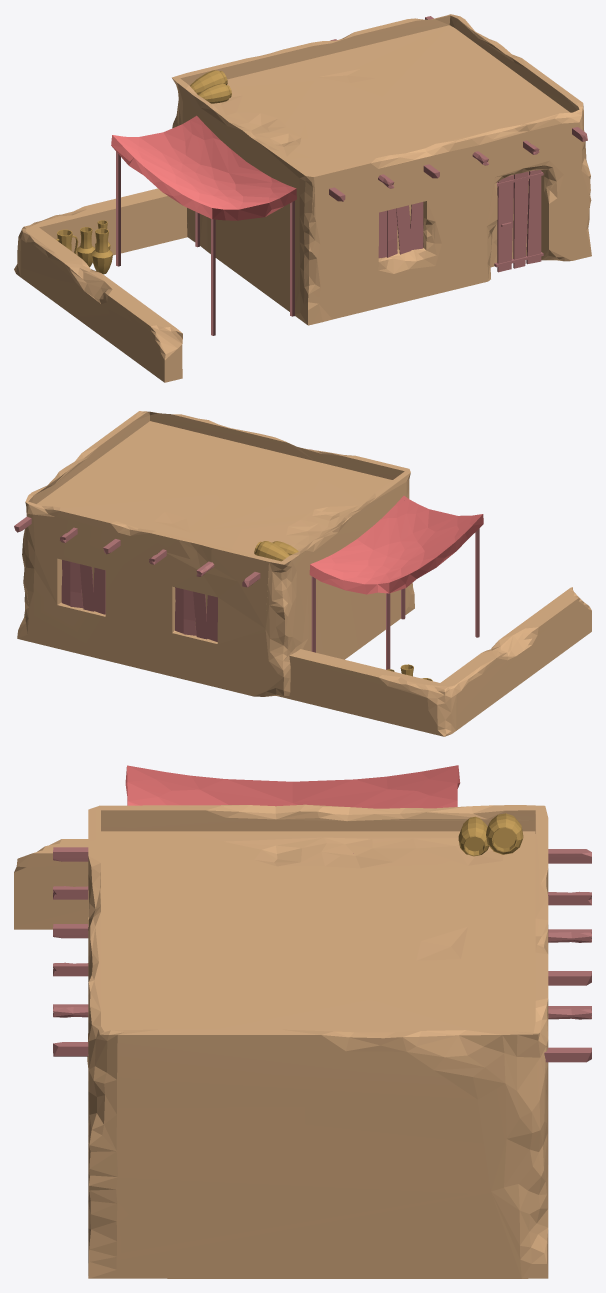
File: house0.glb
The picture shows the model from 3 angles, top to bottom: view 1: azimuth 30°, elevation 25°; view 2: azimuth 150°, elevation 25°; view 3: azimuth 270°, elevation 25°; orthographic projection. The views are drawn at different scales.
Visible parts, largest first — view 1: Object166; view 2: Object166; view 3: Object166.
Part boxes in pixels (x1,y1,x2,y2): Object166: (14, 14, 591, 382); Object166: (14, 411, 591, 736); Object166: (14, 765, 591, 1278).
Size of the model in its own units: 10.39 by 3.43 by 6.96.
